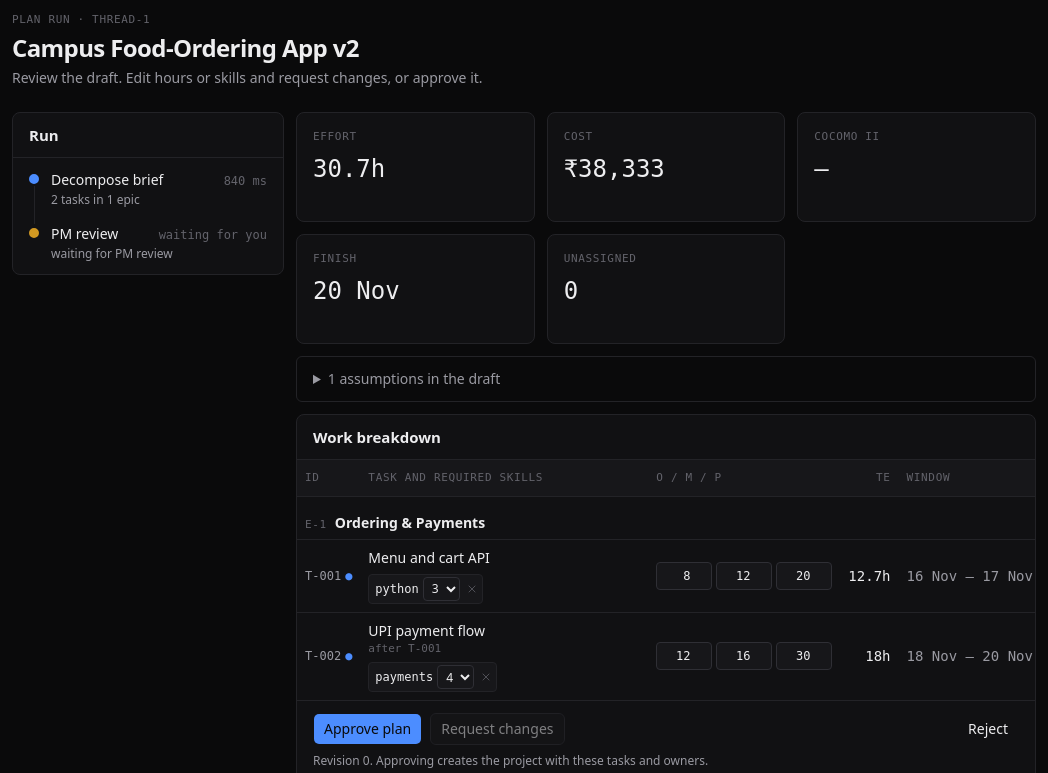
PlanRunPage › streams the timeline, then lets the PM edit and request changes
This screenshot has width=1048, height=773.
Later steps or results of the test are not shown.
Expected: the text "Decompose brief" is shown, [51,170,163,190]
Expected: the text "2 tasks in 1 epic" is shown, [51,191,140,208]
Replace the text in the number field named "T-001 m hours" with "25" at (744, 576), box [716,562,772,590]
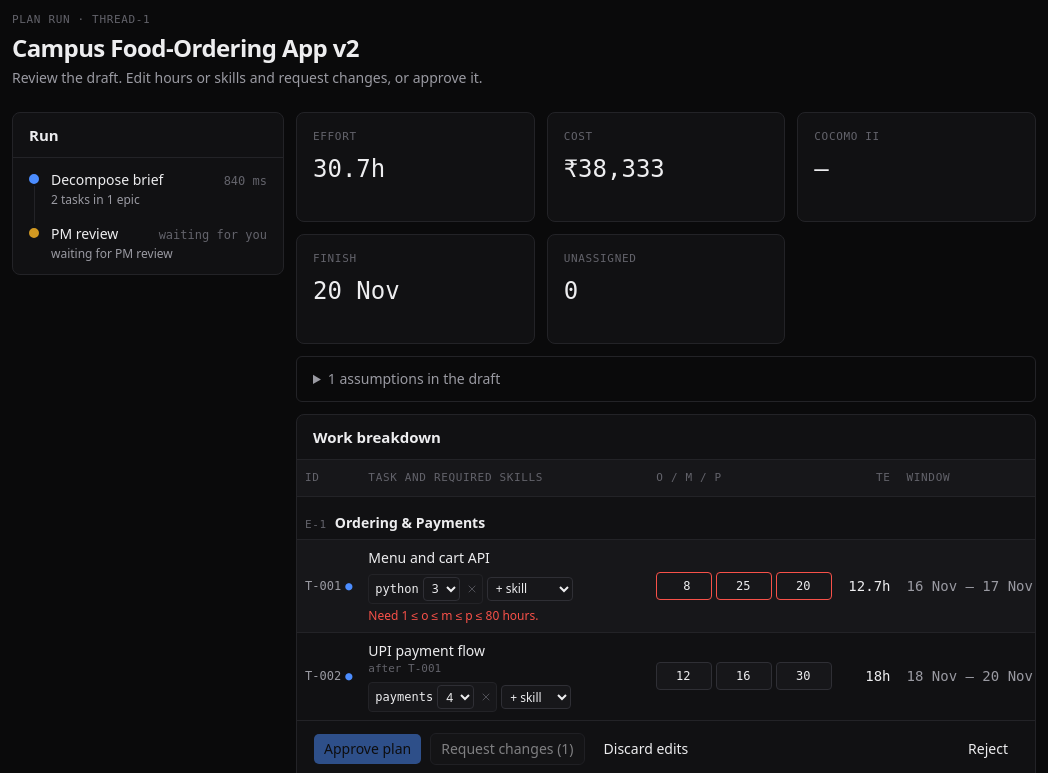
Expected: the button "Request changes (1)" is disabled, [430,733,584,765]
Now the text "Need 1 ≤ o ≤ m ≤ p ≤ 80 hours." is shown, box [368,606,538,624]
Replace the text in the number field named "T-001 m hours" with "14" at (744, 586), box [716,572,772,600]
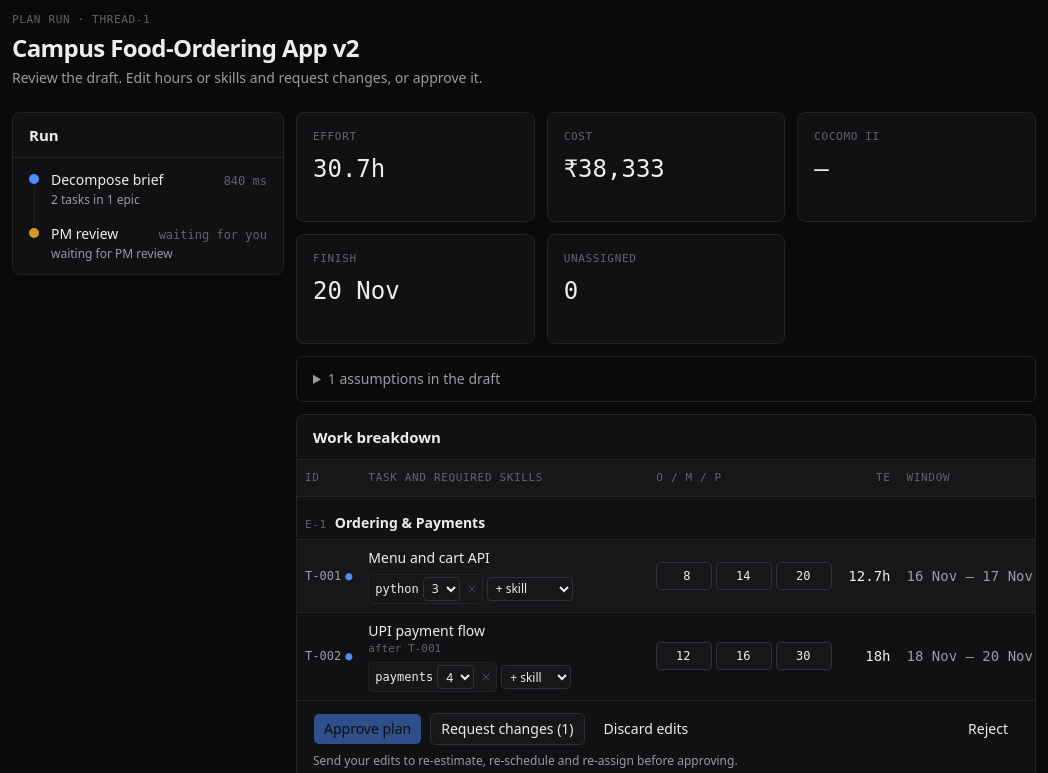
Now the button "Approve plan" is disabled, box [313,713,422,745]
Now the text "Need 1 ≤ o ≤ m ≤ p" is gone
